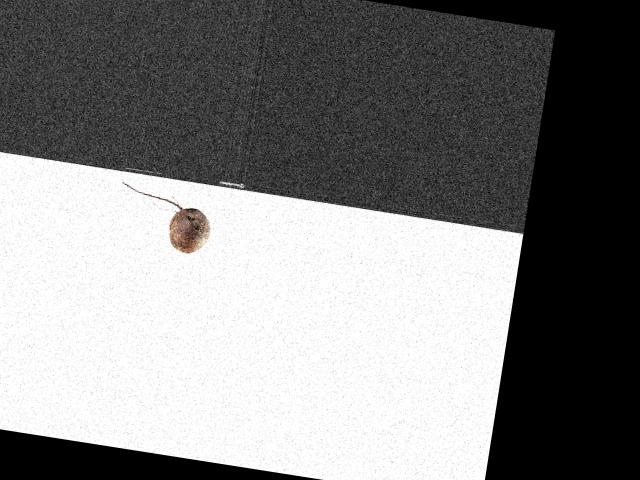beet: (112, 181, 214, 255)
